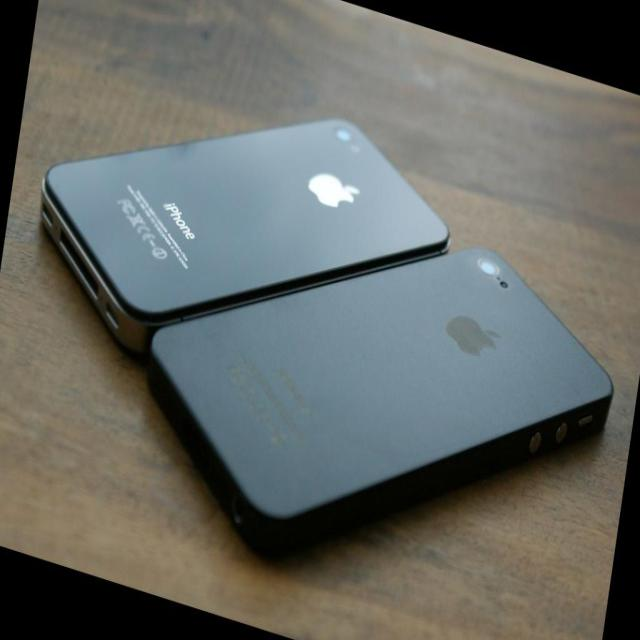handphone: (145, 253, 612, 539), (46, 121, 454, 313)
